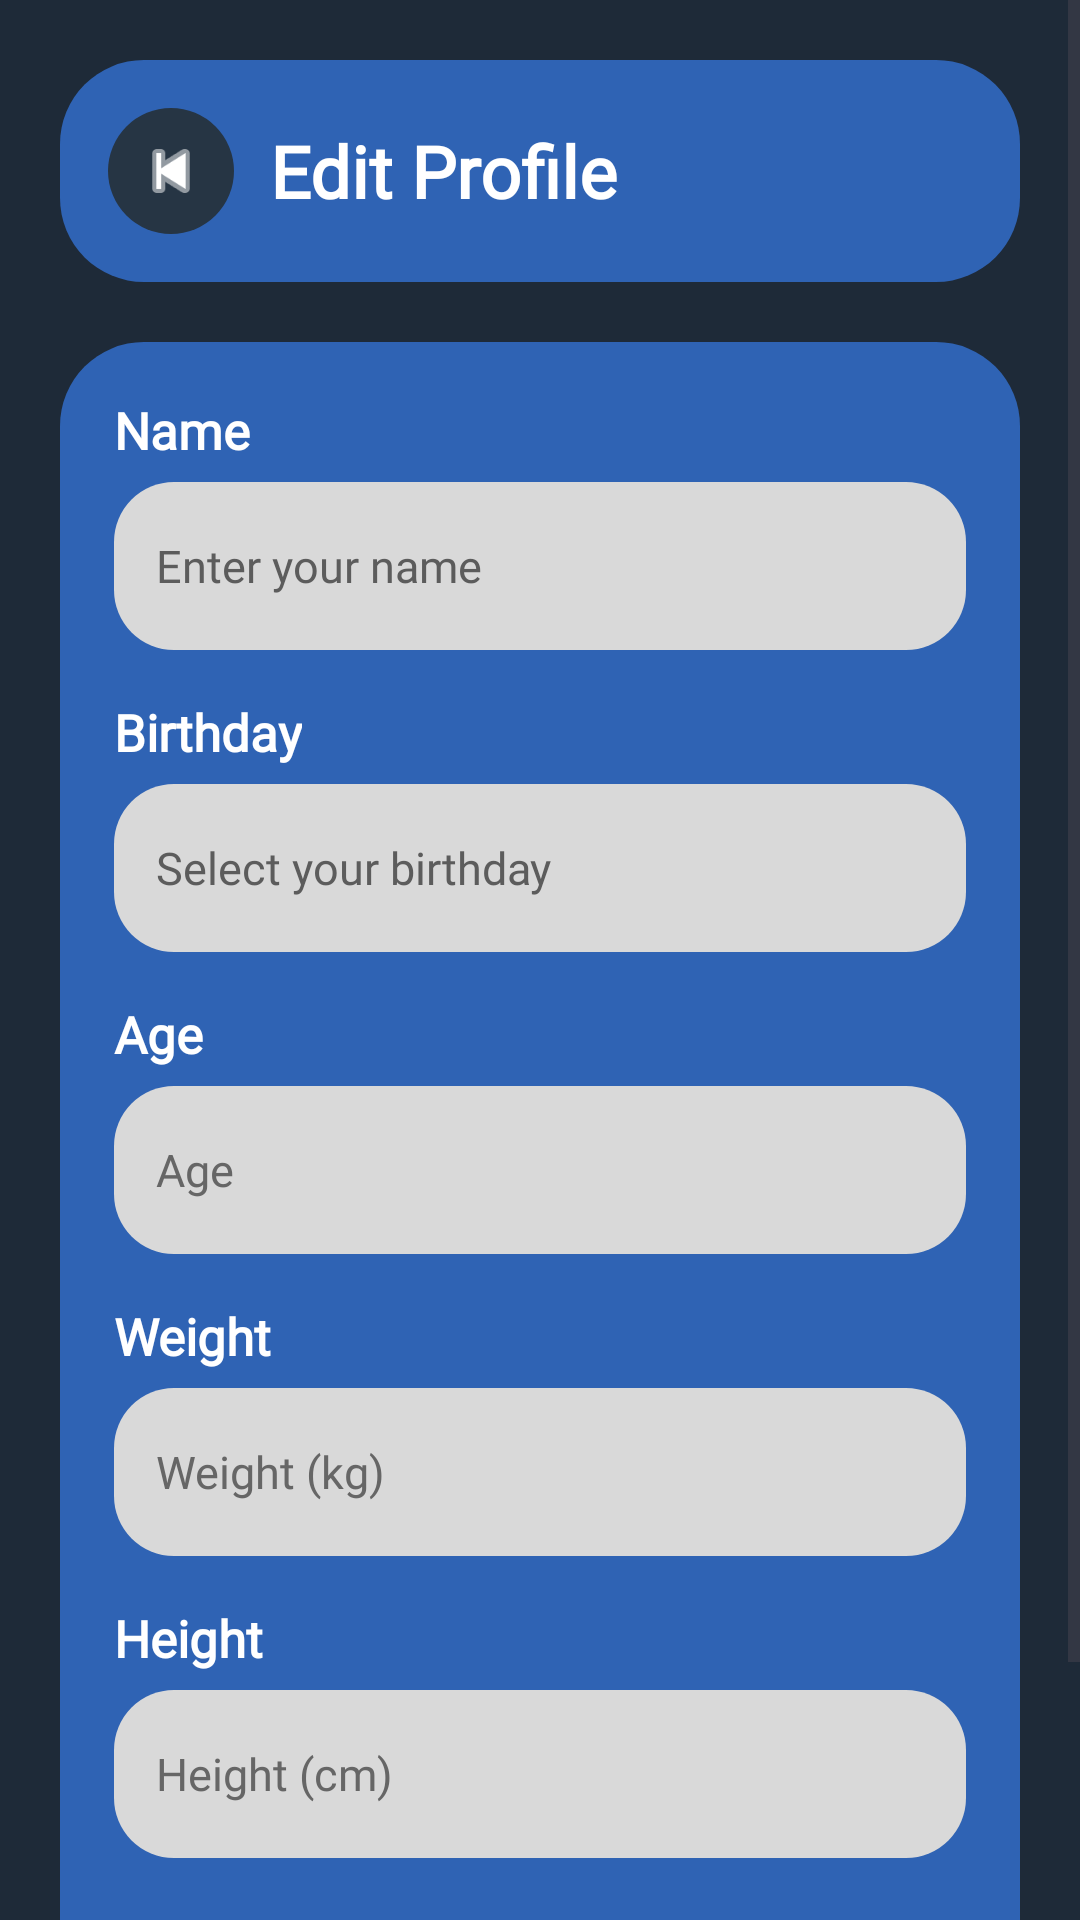

Where to tap for icons on this 1080w x 1920h app screen, as (x=x, y=y):
Back Button: (x=171, y=171)
